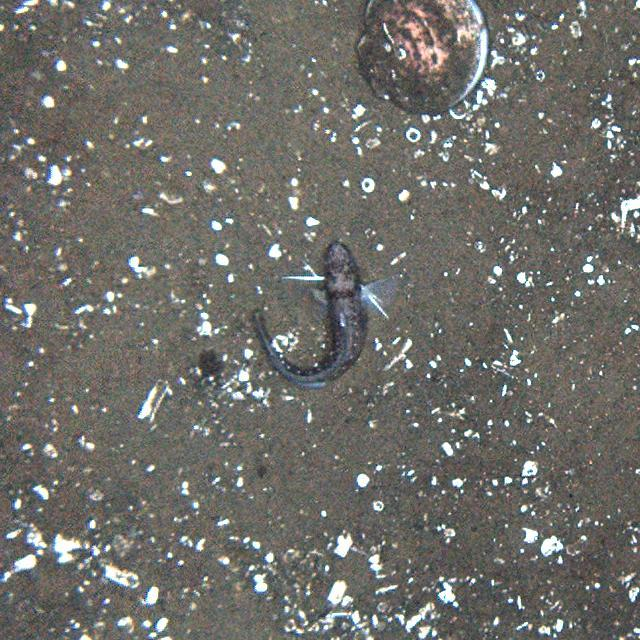roundfish: (245, 244, 398, 390)
